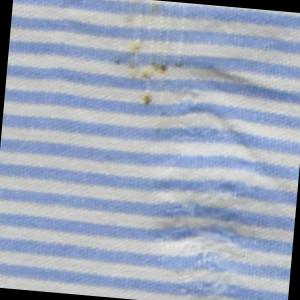Damage: (142, 173, 267, 300)
Oil Stain: (108, 1, 177, 116)
Wrinkle: (160, 51, 300, 202)
